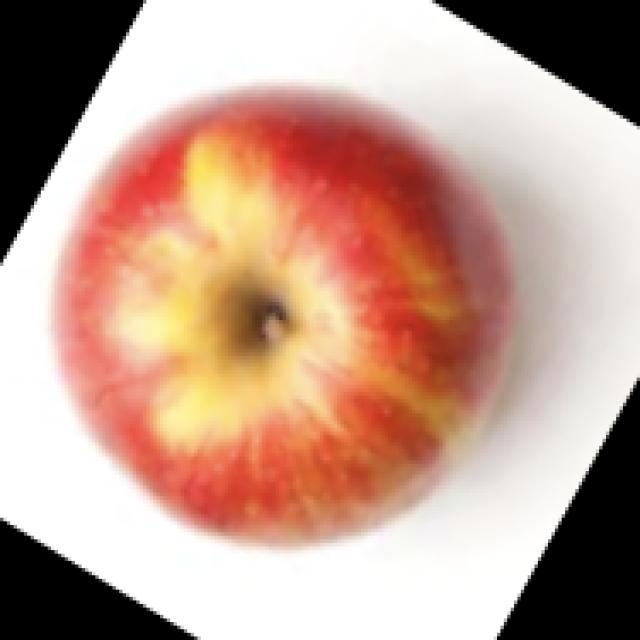Fresh Apple: (67, 88, 540, 542)
